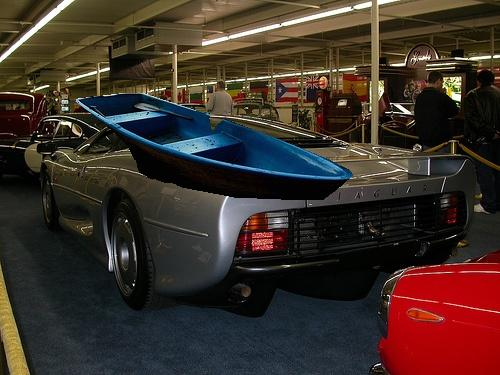tampered: (76, 94, 353, 200)
